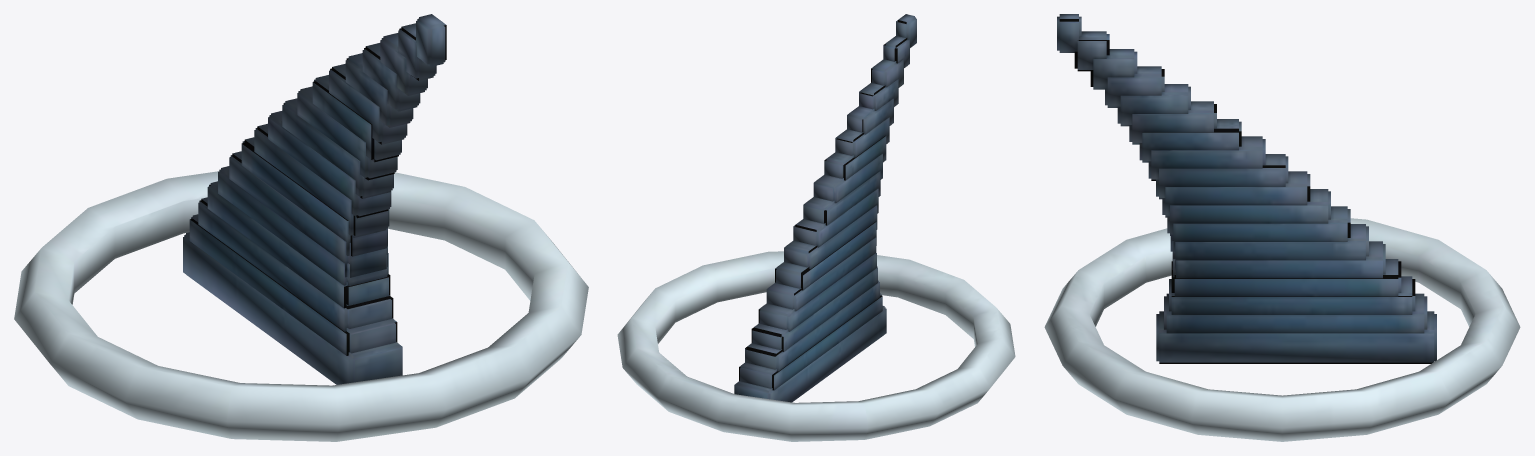
File: SharkFin.glb
The picture shows the model from 3 angles, left to right: view 1: azimuth 30°, elevation 25°; view 2: azimuth 150°, elevation 25°; view 3: azimuth 270°, elevation 25°; orthographic projection. The views are drawn at different scales.
Visible parts, largest first — view 1: SharkFin; view 2: SharkFin; view 3: SharkFin.
Boxes of the visible parts, x1,y1,x2,y2 form: SharkFin: (14,14,588,441); SharkFin: (617,14,1015,441); SharkFin: (1044,14,1520,441).
Bounding box in the file's own units: 0.67 × 0.525 × 0.67.
1 material, 1 textured.
